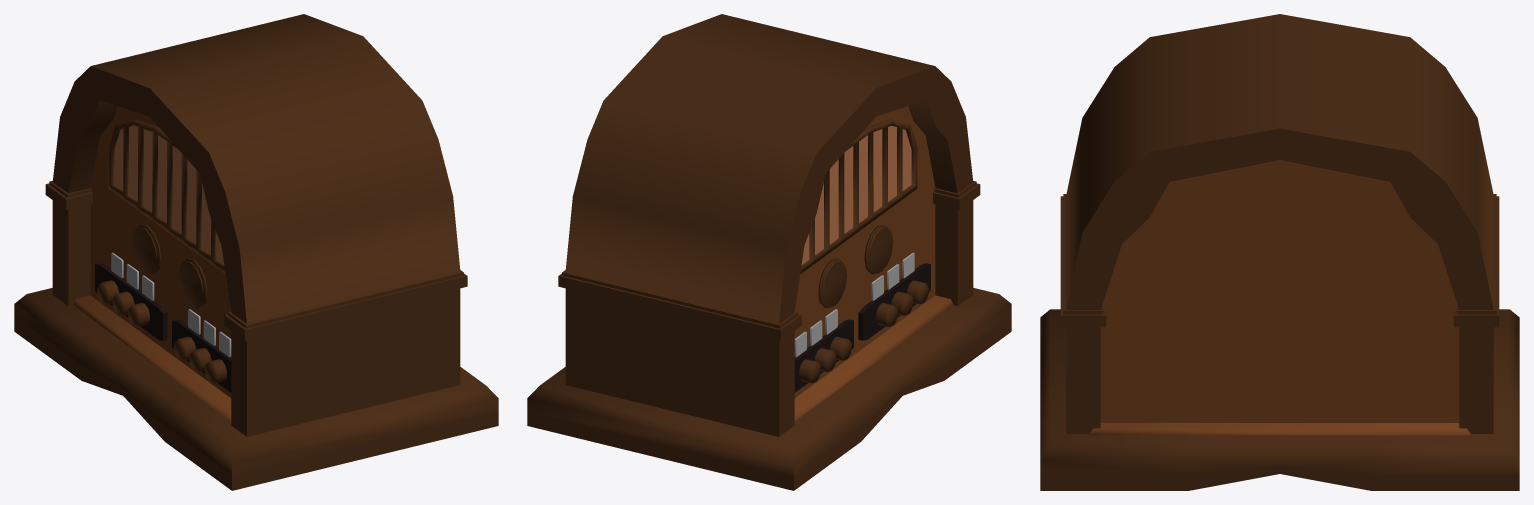
Rendered from Radio_con_pantallas.fbx.
The picture shows the model from 3 angles, left to right: view 1: azimuth 30°, elevation 25°; view 2: azimuth 150°, elevation 25°; view 3: azimuth 270°, elevation 25°; orthographic projection. The views are drawn at different scales.
Parts seen in each view (by area): view 1: Cubierta, Base, Front, Altavoz, Rejilla, Base_2, Soporte_Botones, Botón_2, Botón_1; view 2: Cubierta, Base, Front, Altavoz, Rejilla, Base_2, Soporte_Botones, Botón_1, Botón_2; view 3: Back, Cubierta, Base, Base_2.
Boxes of the visible parts, x1=… form: Cubierta: x1=45, y1=14, x2=467, y2=436; Base: x1=14, y1=288, x2=498, y2=490; Front: x1=90, y1=106, x2=231, y2=397; Altavoz: x1=114, y1=125, x2=224, y2=264; Rejilla: x1=108, y1=119, x2=225, y2=274; Base_2: x1=72, y1=295, x2=231, y2=421; Soporte_Botones: x1=95, y1=263, x2=231, y2=392; Botón_2: x1=178, y1=258, x2=207, y2=308; Botón_1: x1=132, y1=224, x2=161, y2=274; Cubierta: x1=558, y1=14, x2=980, y2=436; Base: x1=527, y1=288, x2=1011, y2=490; Front: x1=794, y1=106, x2=935, y2=397; Altavoz: x1=801, y1=125, x2=911, y2=264; Rejilla: x1=800, y1=119, x2=917, y2=274; Base_2: x1=794, y1=295, x2=953, y2=421; Soporte_Botones: x1=794, y1=263, x2=930, y2=392; Botón_1: x1=818, y1=258, x2=847, y2=308; Botón_2: x1=864, y1=224, x2=893, y2=274; Back: x1=1100, y1=160, x2=1459, y2=422; Cubierta: x1=1060, y1=14, x2=1499, y2=433; Base: x1=1040, y1=309, x2=1519, y2=490; Base_2: x1=1089, y1=423, x2=1470, y2=435.
Size of the model in its own units: 200 by 227 by 283.
